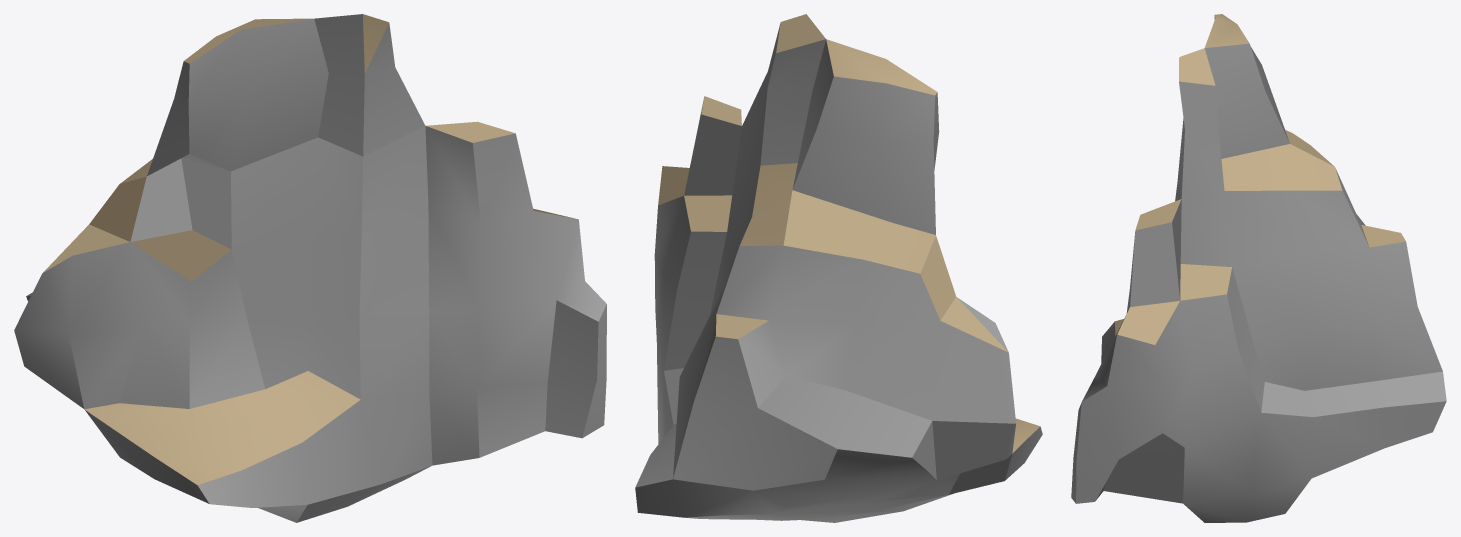
Rendered from rock13.glb.
3 renders of one model, left to right at view 1: azimuth 30°, elevation 25°; view 2: azimuth 150°, elevation 25°; view 3: azimuth 270°, elevation 25°, orthographic. The views are drawn at different scales.
Parts seen in each view (by area): view 1: rock.005_0; view 2: rock.005_0; view 3: rock.005_0.
Boxes of the visible parts, left/top/right/bottom form: rock.005_0: left=14, top=14, right=606, bottom=522; rock.005_0: left=635, top=14, right=1042, bottom=522; rock.005_0: left=1071, top=14, right=1446, bottom=522.
Bounding box in the file's own units: 17.71 × 17.37 × 13.8.
